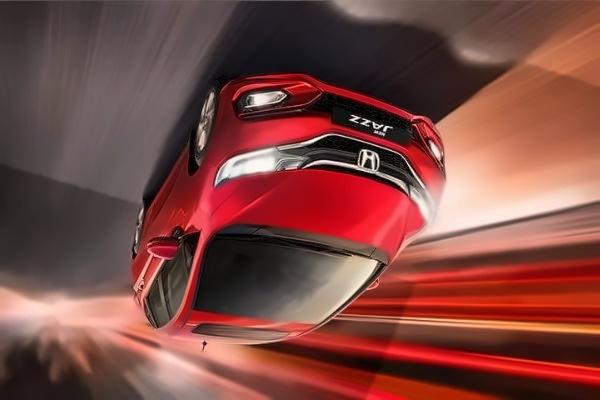Car hood: (209, 166, 429, 274)
Fender - -F-L-: (182, 108, 228, 253)
Front bumper: (217, 70, 454, 201)
Headlight - -L-: (212, 144, 314, 188)
Headlight - -R-: (408, 182, 440, 226)
Passenger-s door - -F-L-: (158, 102, 208, 336)
Passenger-s door - -R-L-: (139, 164, 173, 344)
Side bumper - -L-: (140, 124, 197, 234)
Side mirror - -L-: (148, 233, 186, 262)
